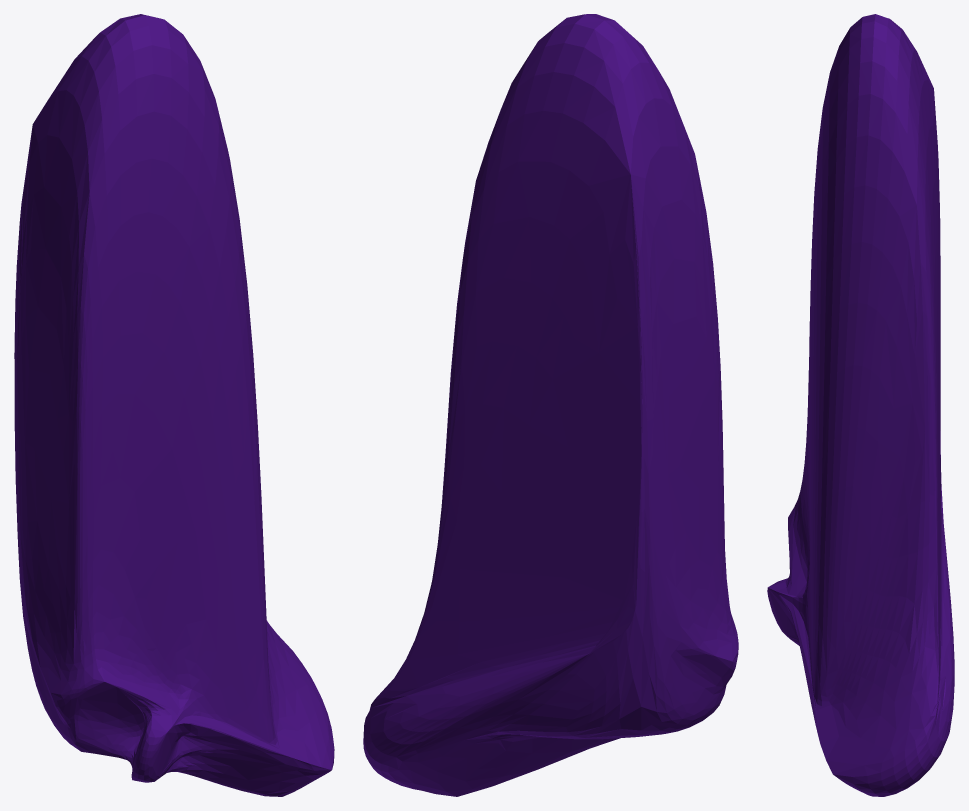
3 views of the same model, side by side, from view 1: azimuth 30°, elevation 25°; view 2: azimuth 150°, elevation 25°; view 3: azimuth 270°, elevation 25° (orthographic). The views are drawn at different scales.
Parts seen in each view (by area): view 1: 385_Cube.1568; view 2: 385_Cube.1568; view 3: 385_Cube.1568.
Boxes of the visible parts, x1,y1,x2,y2 form: 385_Cube.1568: (14, 14, 334, 796); 385_Cube.1568: (363, 14, 738, 796); 385_Cube.1568: (767, 14, 954, 796).
Bounding box in the file's own units: 5.27 × 12.89 × 3.07.
